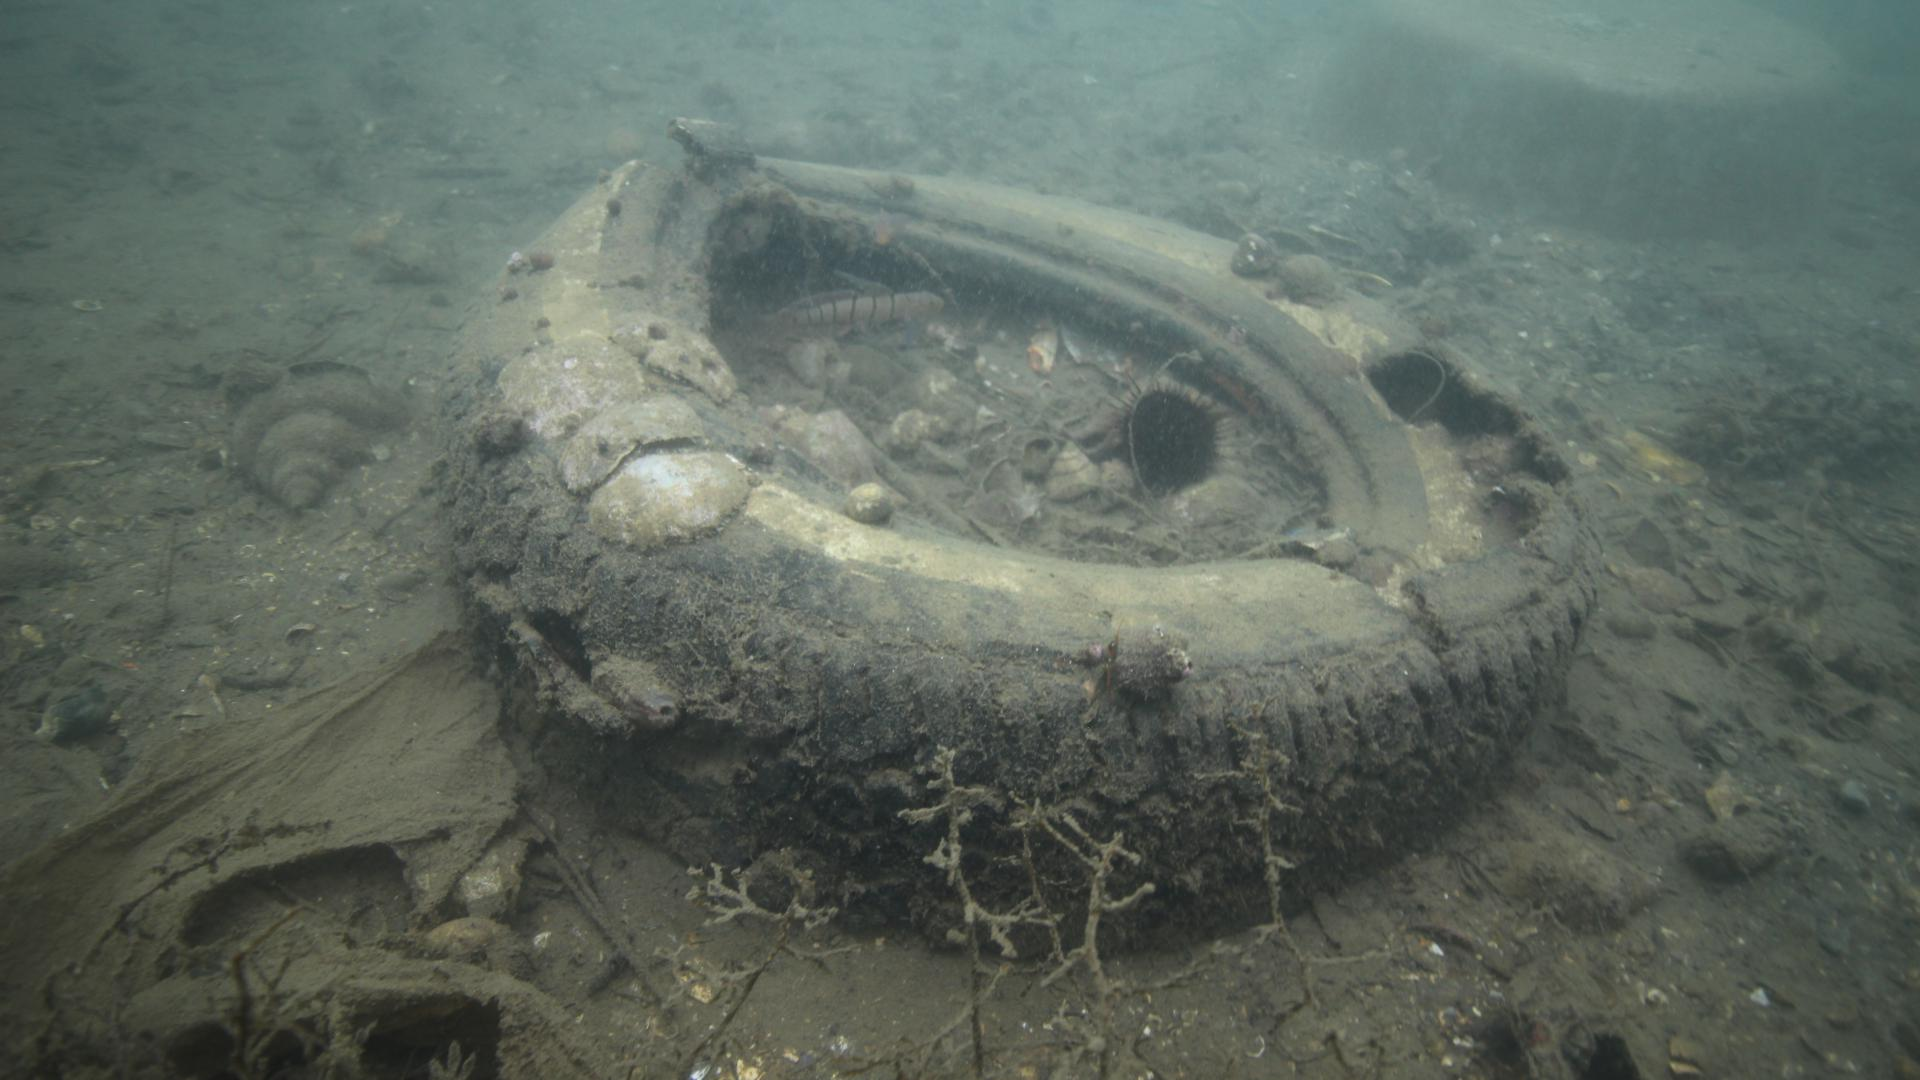tire: (429, 113, 1602, 956)
